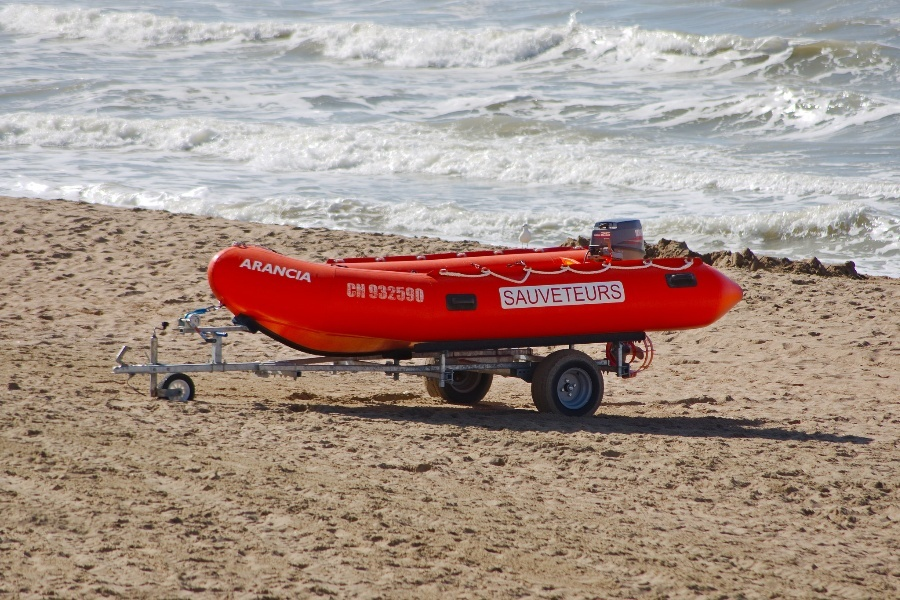text: (257, 258, 272, 284), (273, 258, 288, 284), (289, 258, 304, 284), (513, 284, 528, 306), (529, 284, 544, 306), (545, 284, 560, 306), (561, 284, 576, 306), (577, 284, 592, 306), (593, 284, 608, 306), (609, 284, 624, 306), (244, 258, 256, 284), (369, 284, 384, 304), (385, 284, 400, 304), (401, 284, 416, 304), (353, 283, 368, 299), (502, 284, 512, 306), (305, 258, 313, 284), (417, 284, 425, 304), (347, 283, 352, 299), (593, 233, 608, 238), (634, 228, 640, 237), (600, 232, 608, 237), (641, 228, 644, 237), (609, 232, 611, 237)
